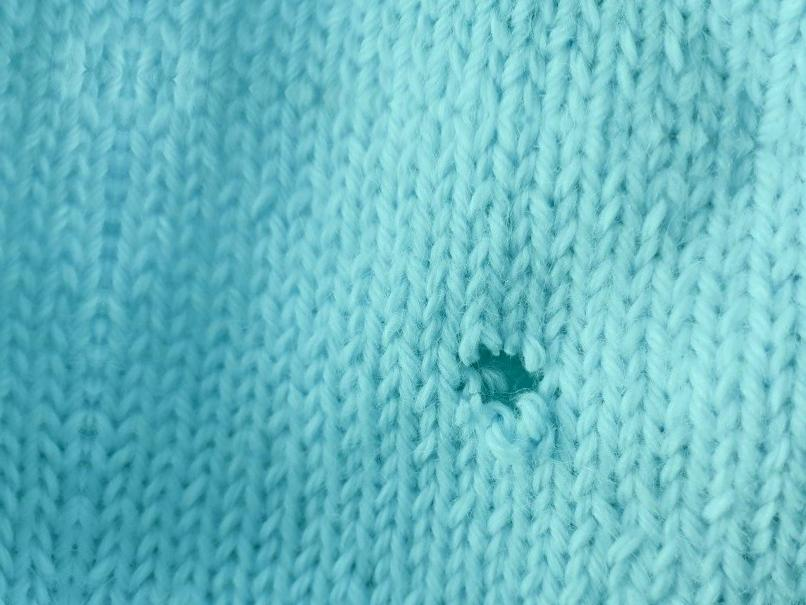hole: (451, 328, 561, 422)
